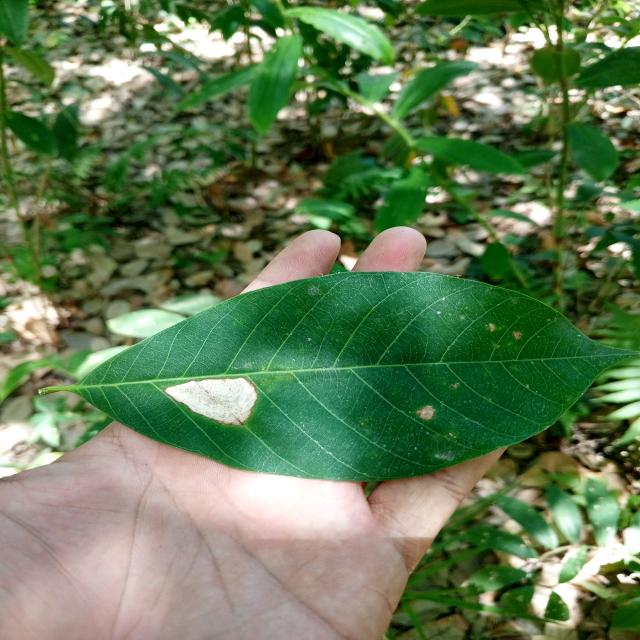Colletotrichum: (247, 365, 250, 367)
Leaf-Blight: (164, 378, 259, 426)
